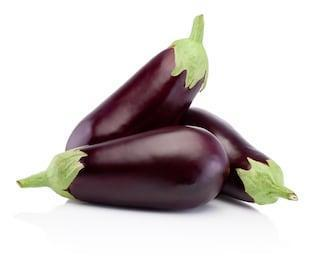eggplant: (65, 15, 206, 149), (18, 126, 226, 208), (180, 108, 297, 204)
